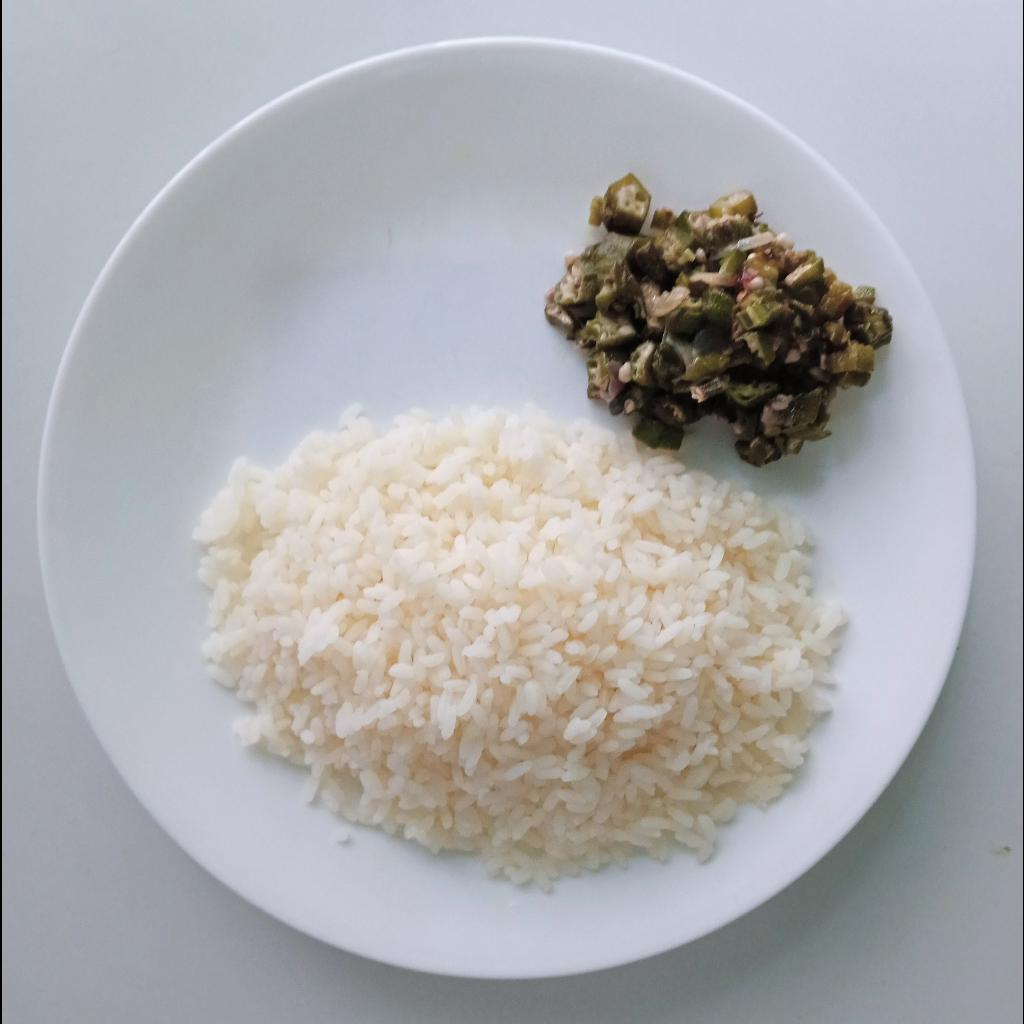okra: (542, 172, 894, 469)
rice: (199, 405, 847, 895)
